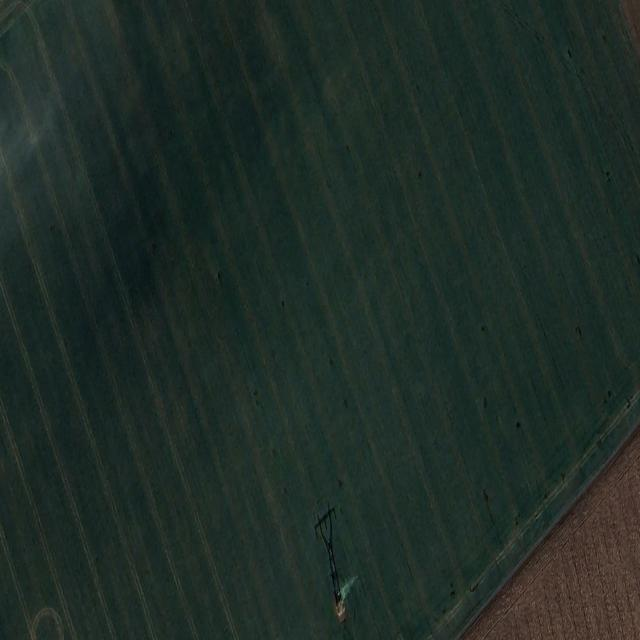bare-soil: (439, 427, 640, 639)
building: (333, 594, 347, 623)
